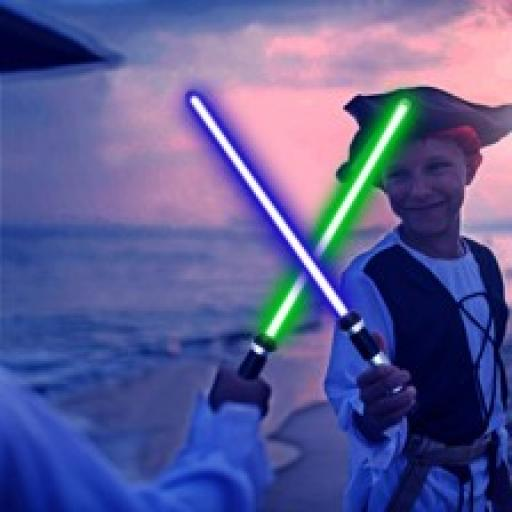human: (327, 84, 512, 512)
lightsaber: (188, 92, 409, 394), (236, 101, 407, 378)
